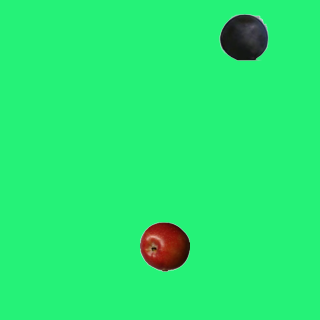Apple Braeburn: (139, 221, 189, 271)
Grape Blue: (218, 11, 268, 61)
